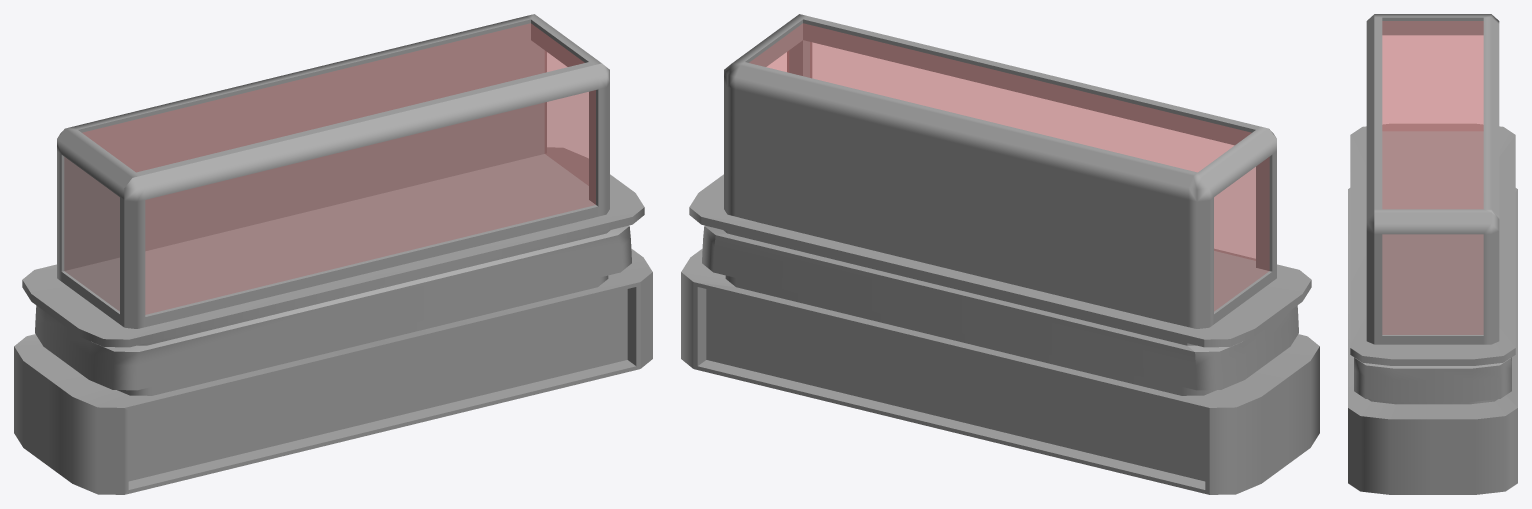
Rendered from case.fbx.
The picture shows the model from 3 angles, left to right: view 1: azimuth 30°, elevation 25°; view 2: azimuth 150°, elevation 25°; view 3: azimuth 270°, elevation 25°; orthographic projection. The views are drawn at different scales.
Parts seen in each view (by area): view 1: polySurface29; view 2: polySurface29; view 3: polySurface29.
Part boxes in pixels (x1,y1,x2,y2): polySurface29: (14, 14, 652, 494); polySurface29: (681, 14, 1319, 494); polySurface29: (1348, 14, 1517, 494).
Bounding box in the file's own units: 57.9 × 29.08 × 17.19.
